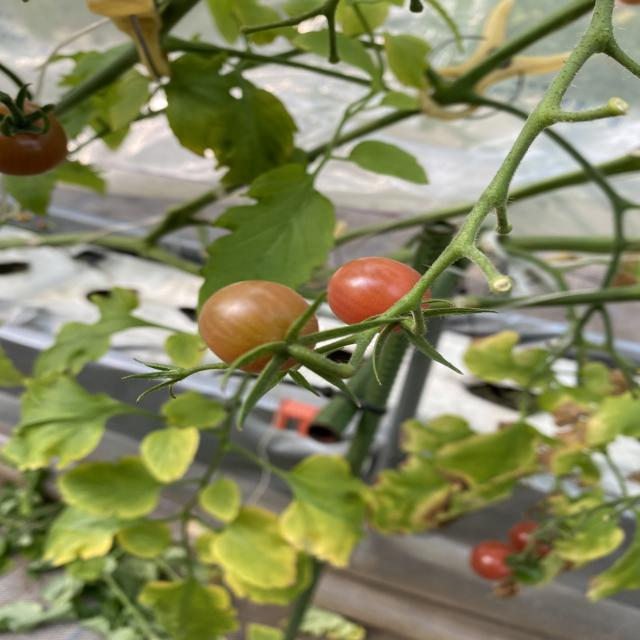c-half-riped: (199, 280, 319, 374), (1, 98, 68, 176)
c-riped: (326, 256, 432, 334)
